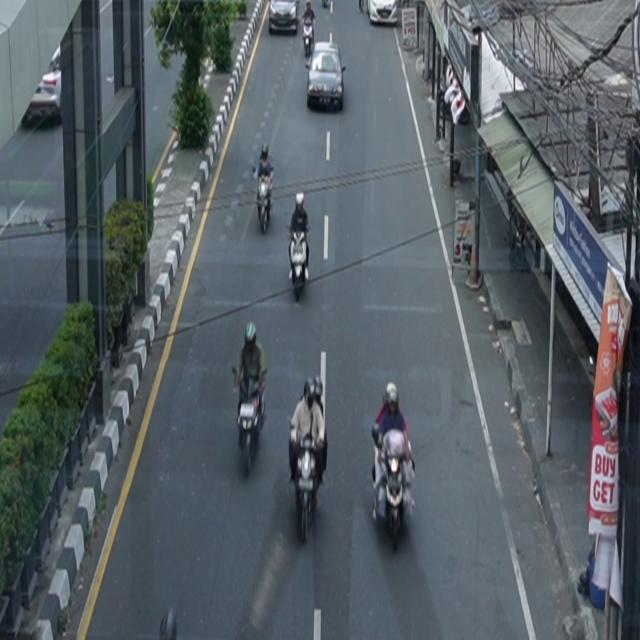car: (306, 42, 347, 113), (269, 1, 300, 35)
